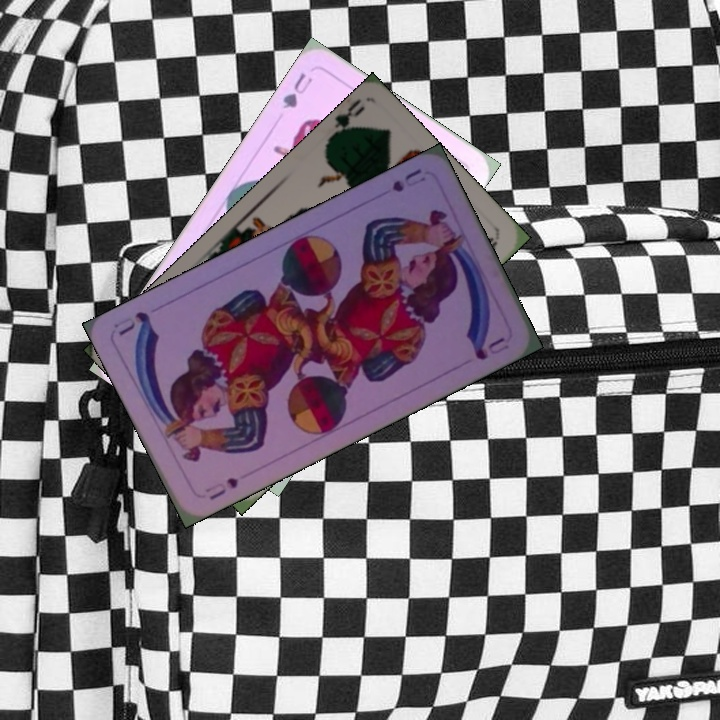GO: (323, 97, 368, 147)
GU: (278, 68, 315, 112)
SU: (388, 164, 429, 195), (205, 473, 241, 503)
